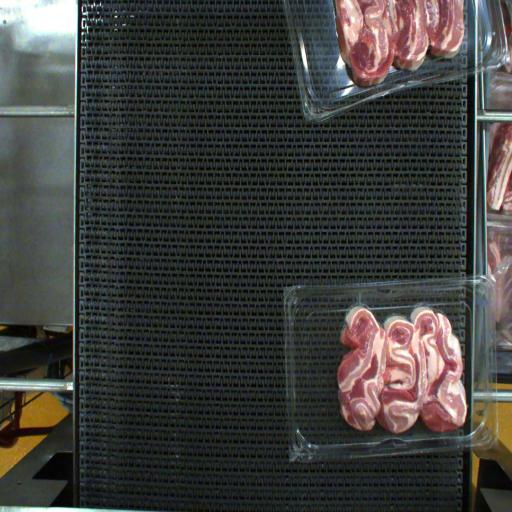unsealed: (337, 299, 456, 339)
